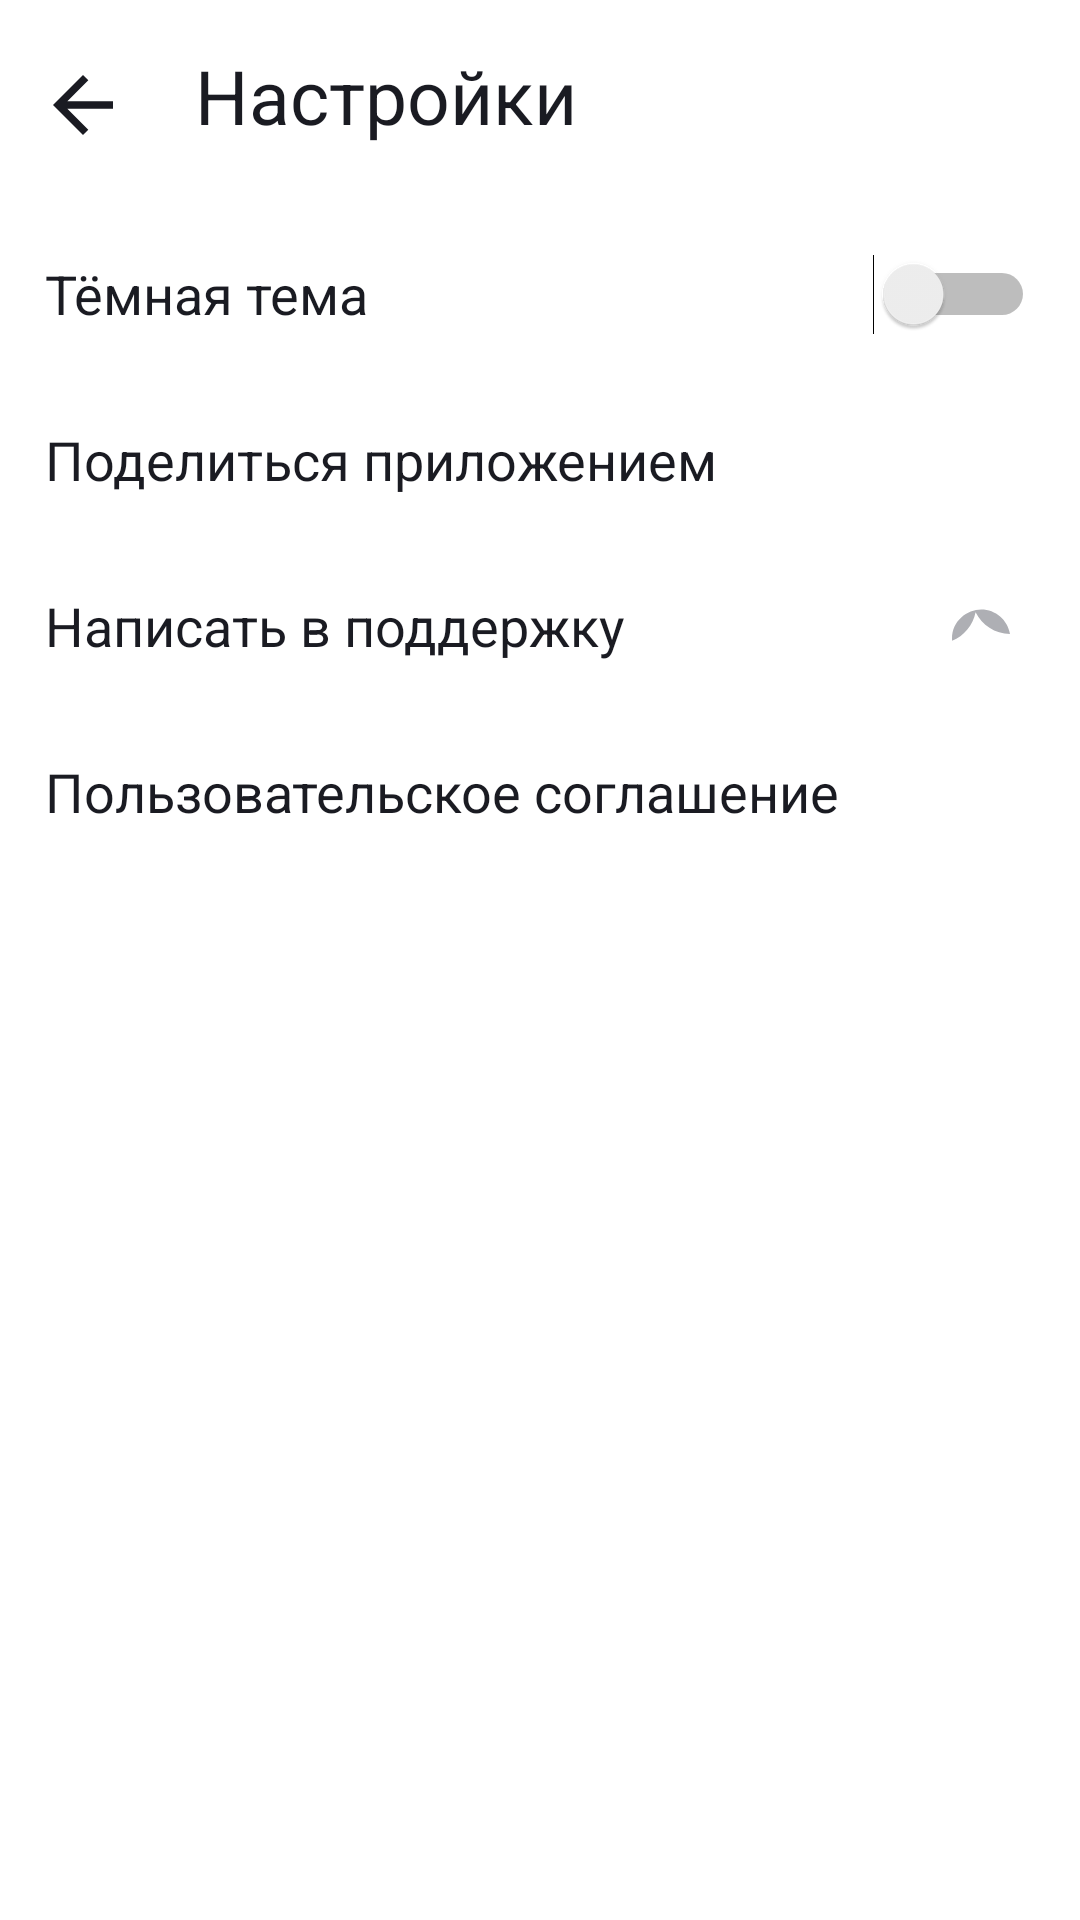

Screen size 1080 × 1920. Icon name, then its center in pixels as [x,y]:
array back: [83,105]
